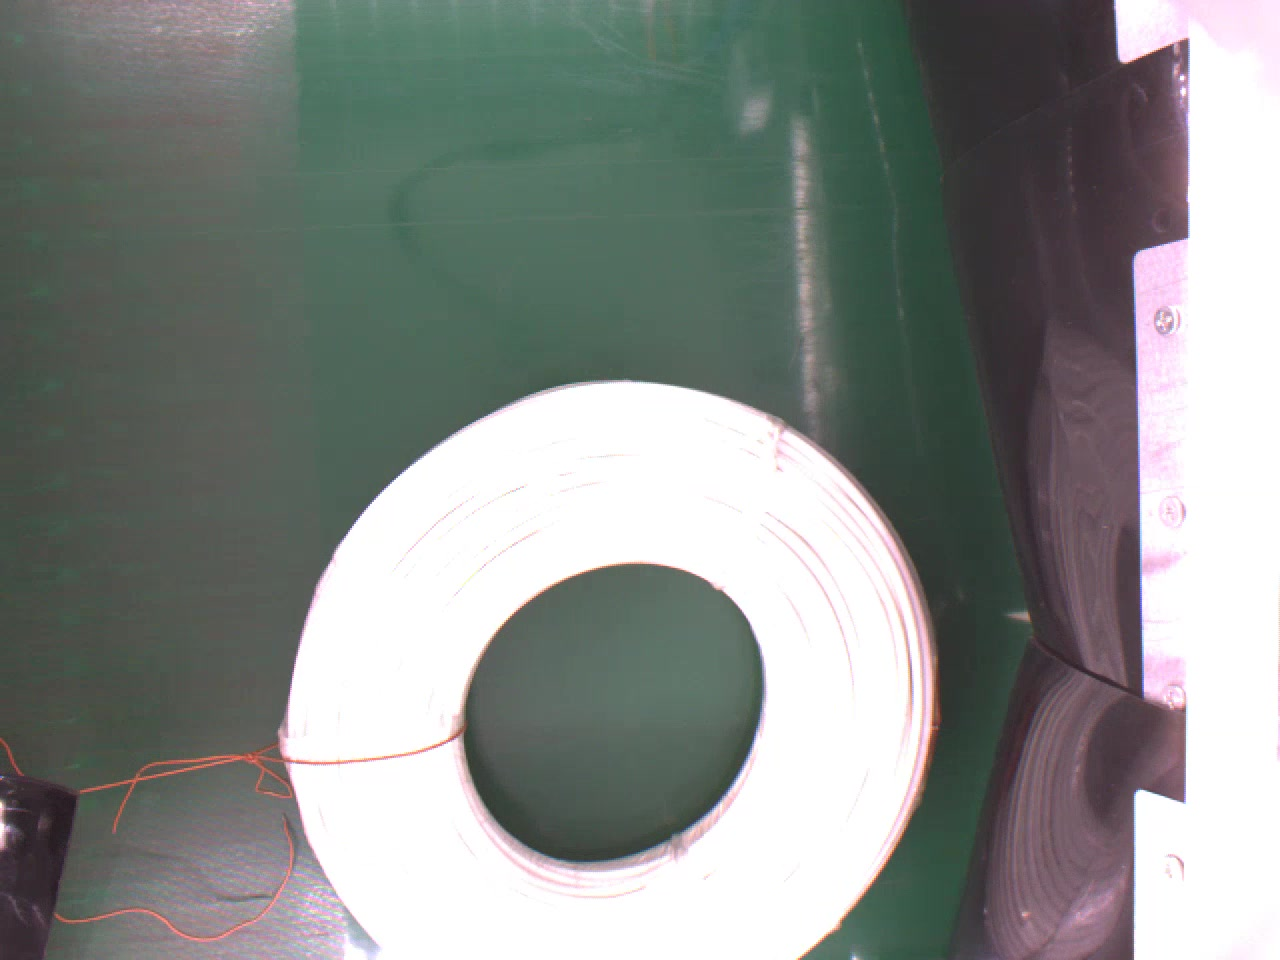white: (273, 376, 965, 960)
